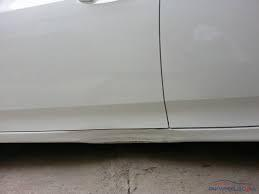RunningBoard-Dent: (62, 127, 179, 141)
